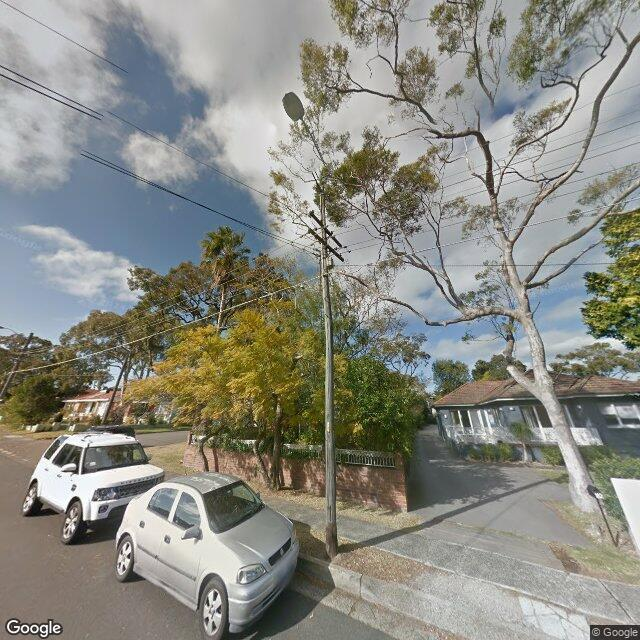crossarm: (308, 210, 344, 247), (309, 228, 345, 262)
streetlight: (282, 91, 328, 192), (0, 325, 26, 345)
timber-pole: (320, 184, 337, 560), (1, 332, 34, 397)
